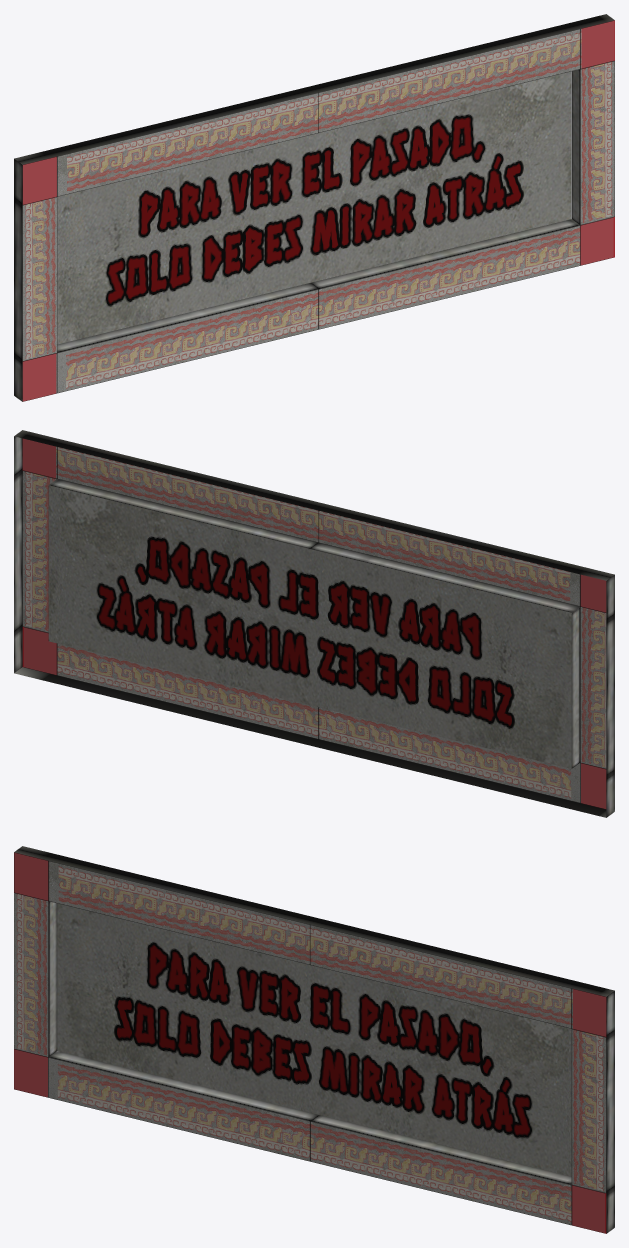
The model's file is Mirar_Pasado_Cartel.glb.
3 renders of one model, top to bottom at view 1: azimuth 30°, elevation 25°; view 2: azimuth 150°, elevation 25°; view 3: azimuth 330°, elevation 25°, orthographic.
Visible parts, largest first — view 1: Cartel_Maya.002, Cartel_Maya.001; view 2: Cartel_Maya.002, Cartel_Maya.001; view 3: Cartel_Maya.002, Cartel_Maya.001.
Boxes of the visible parts, x1,y1,x2,y2 form: Cartel_Maya.002: (57, 71, 571, 344); Cartel_Maya.001: (14, 14, 614, 401); Cartel_Maya.002: (49, 485, 571, 768); Cartel_Maya.001: (14, 430, 614, 817); Cartel_Maya.002: (57, 903, 571, 1176); Cartel_Maya.001: (14, 846, 614, 1233).
Size of the model in its own units: 2.04 by 0.7804 by 0.0509.
2 materials, 2 textured.
